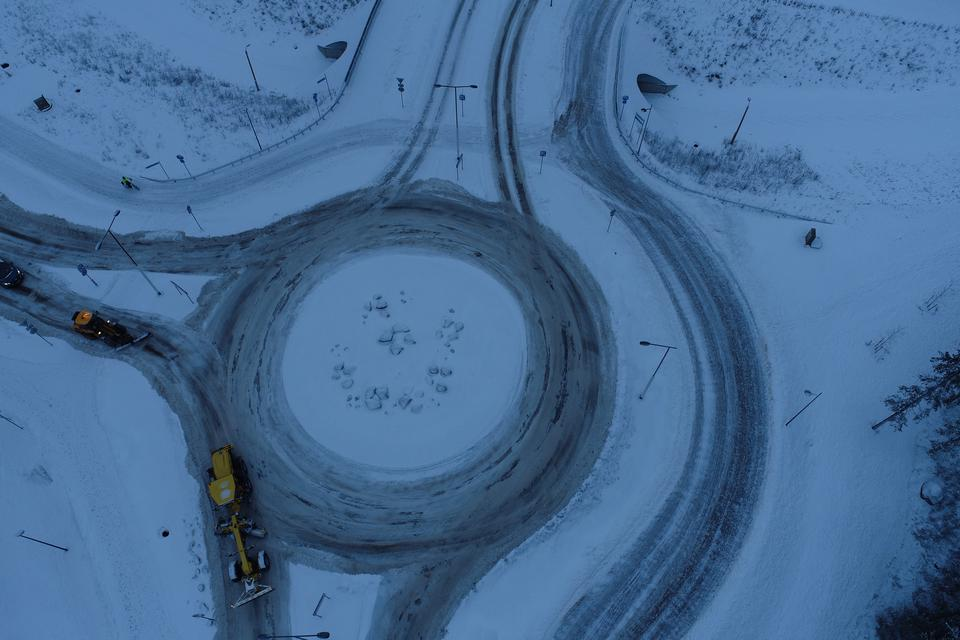intersection: (378, 86, 612, 173)
roundabout: (131, 185, 795, 612)
